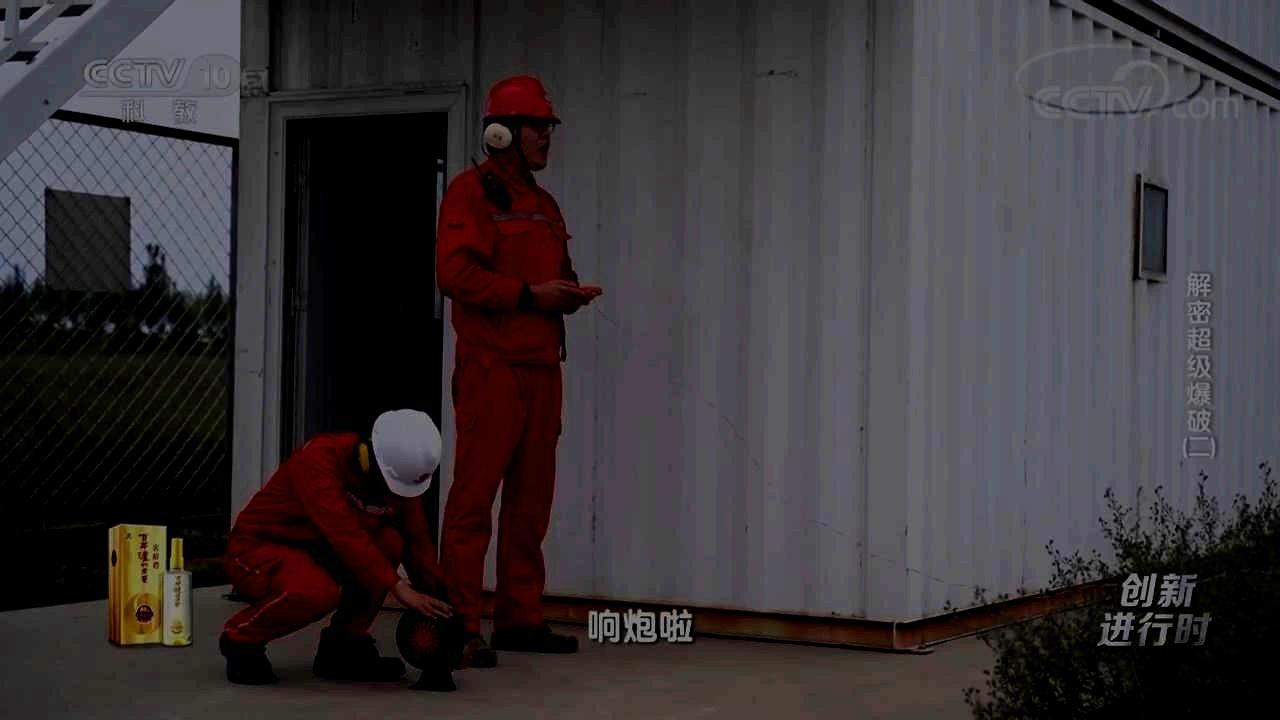helmet: (481, 73, 563, 172), (357, 409, 442, 498)
